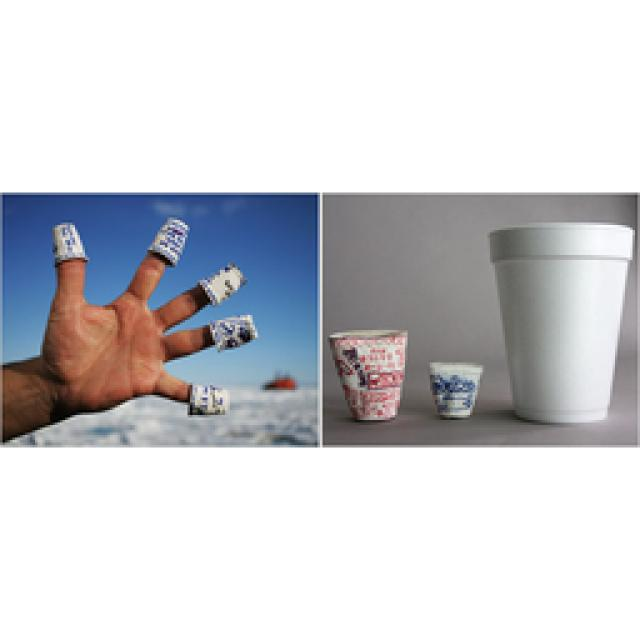styrofoam: (490, 222, 632, 422)
